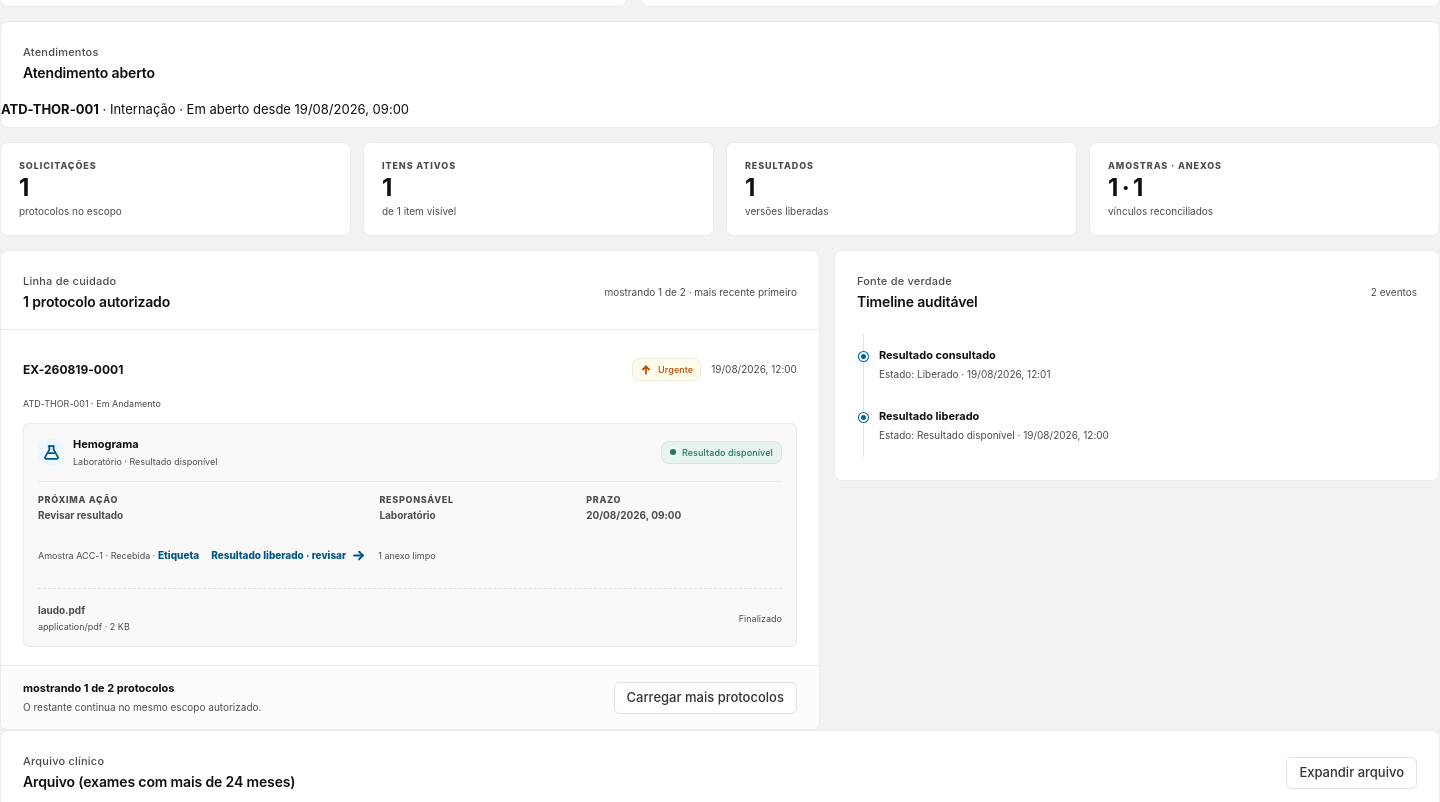
PatientDiagnostics workspace › loads the next authorized request page without losing the first page
(page scrolled)
Expected: the text "mostrando 1 de 2 · mais recente primeiro" is shown, [604,285,797,300]
Click the button "Carregar mais protocolos".
click(705, 698)  # box [614,682,797,714]
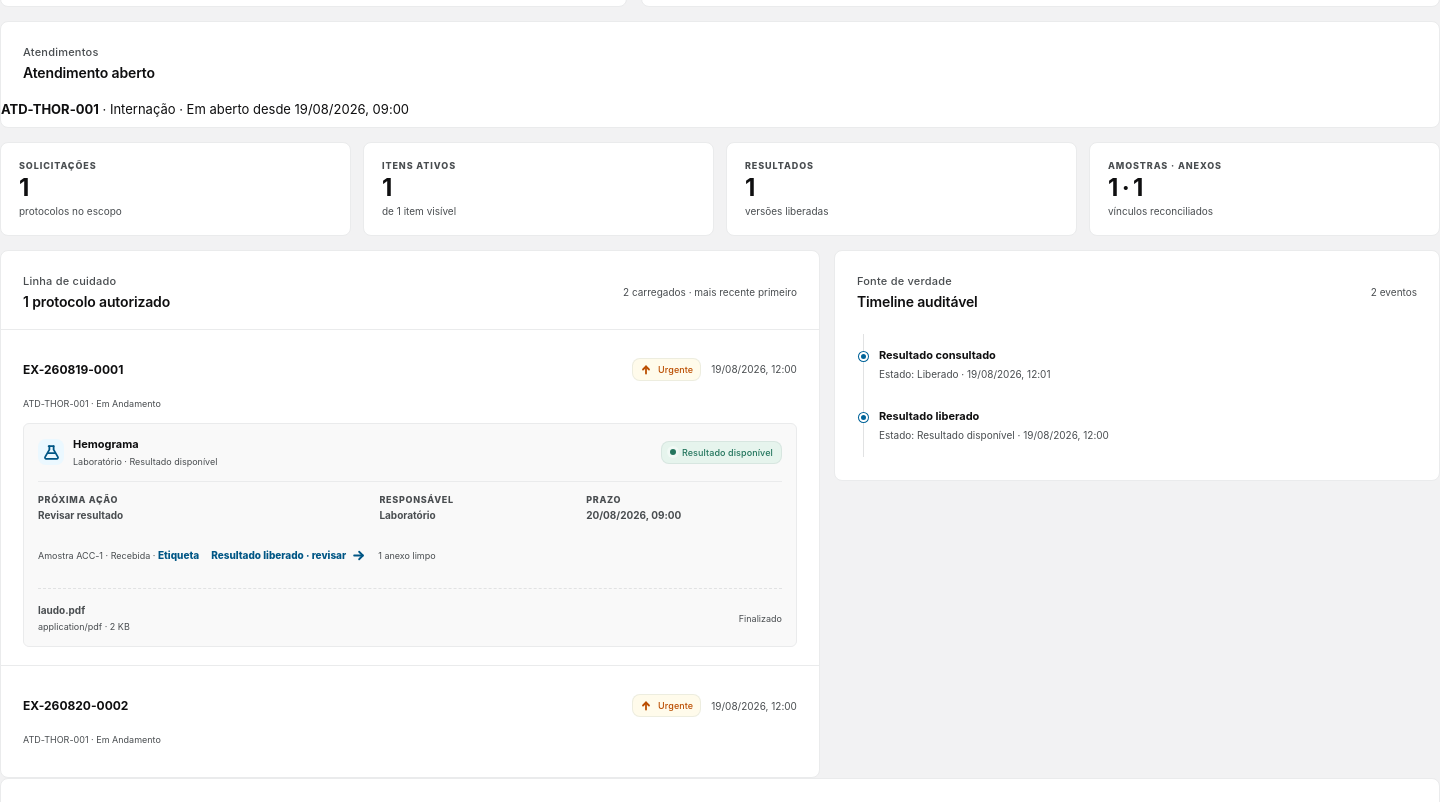
Expected: the text "EX-260819-0001" is shown, [23,361,123,378]
Now the text "EX-260820-0002" is shown, box [23,697,128,714]
Now the button "Carregar mais protocolos" is gone
